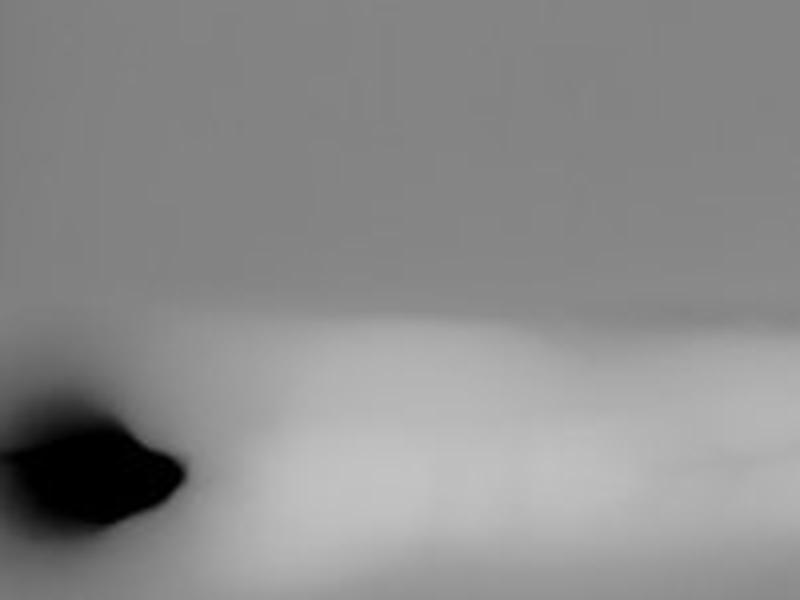defect: (1, 404, 181, 527)
